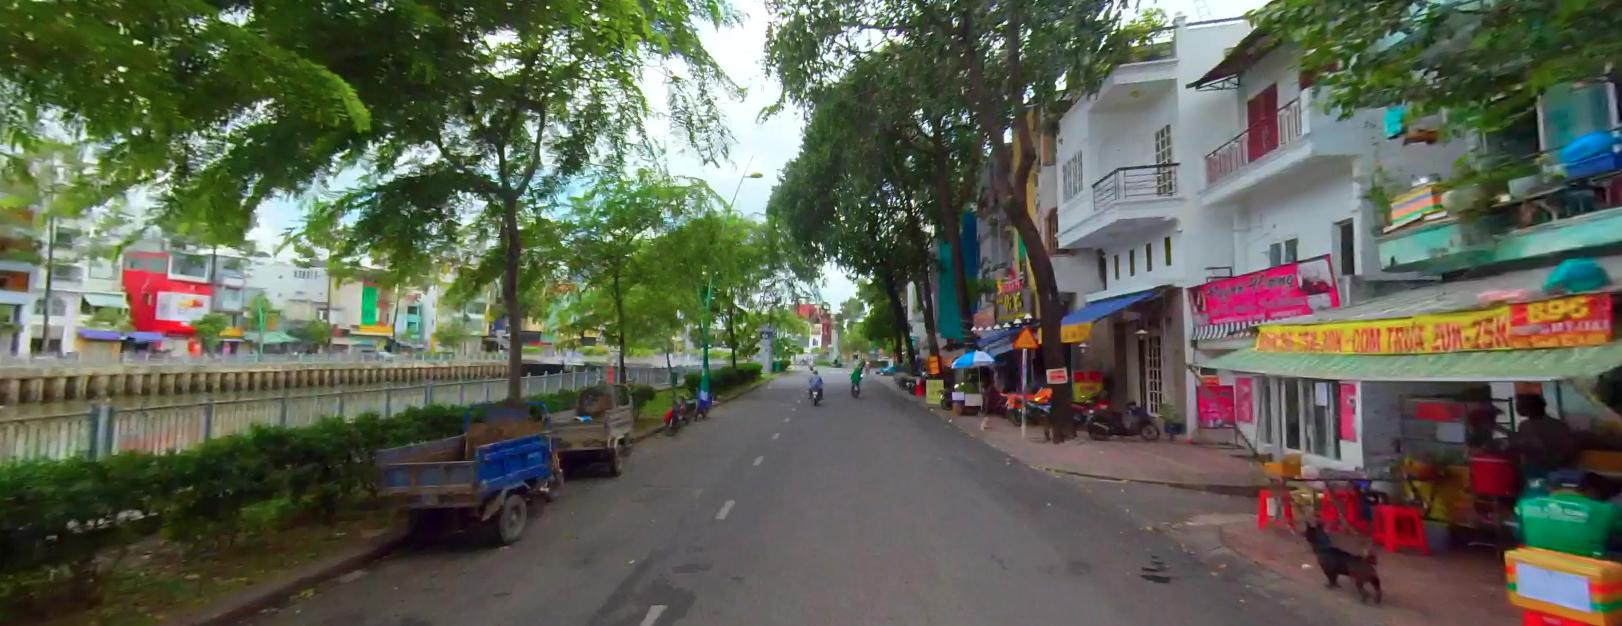Nguy hiem: (1012, 326, 1042, 348)
